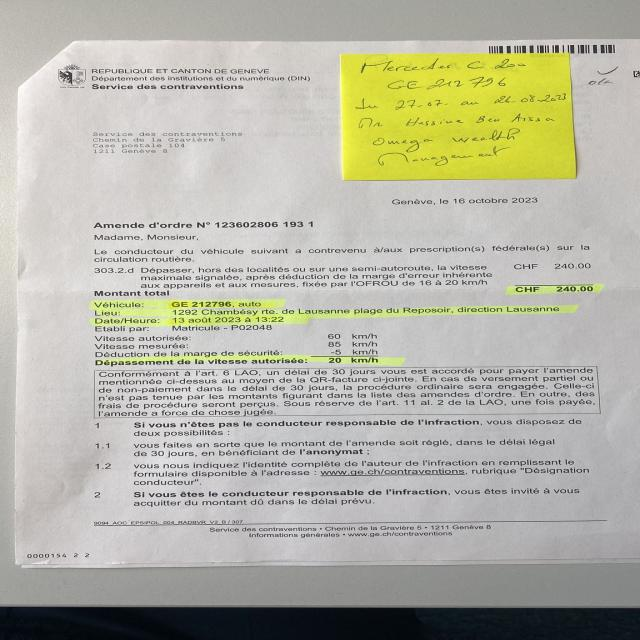paper-document-: (17, 38, 640, 565)
